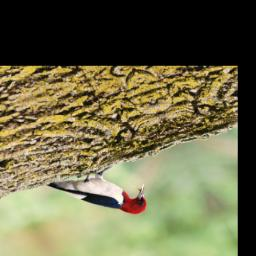Woodpecker: (47, 159, 157, 234)
